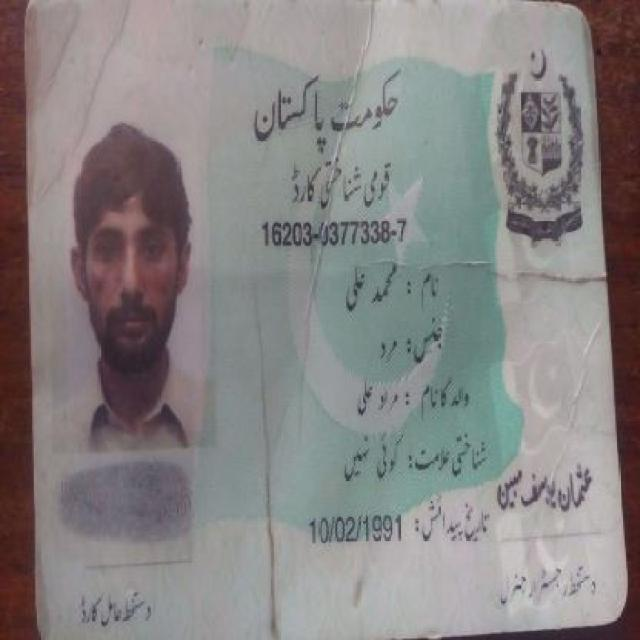Front: (26, 0, 622, 631)
